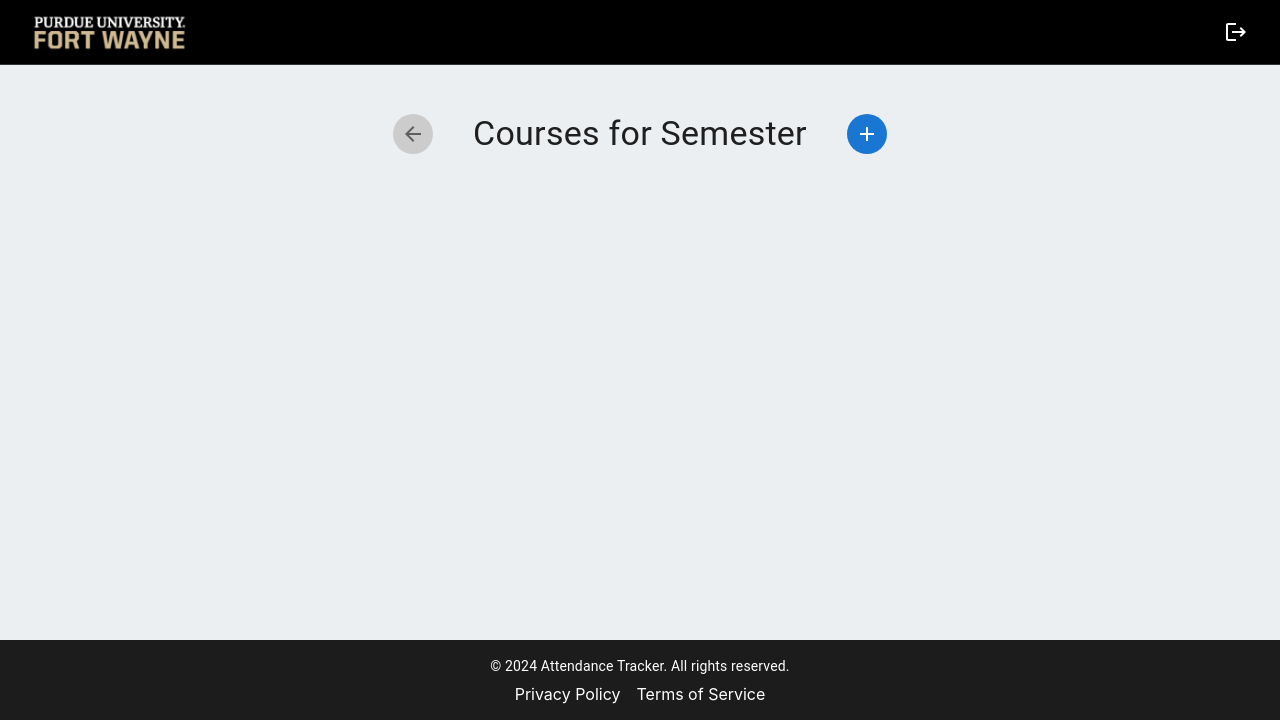
it: Course Management - Add Course › Clicking "Cancel" should close the pop-up without saving
This screenshot has width=1280, height=720.
Click the button with test id "add-course-button" at (867, 134), box [847,114,887,154]
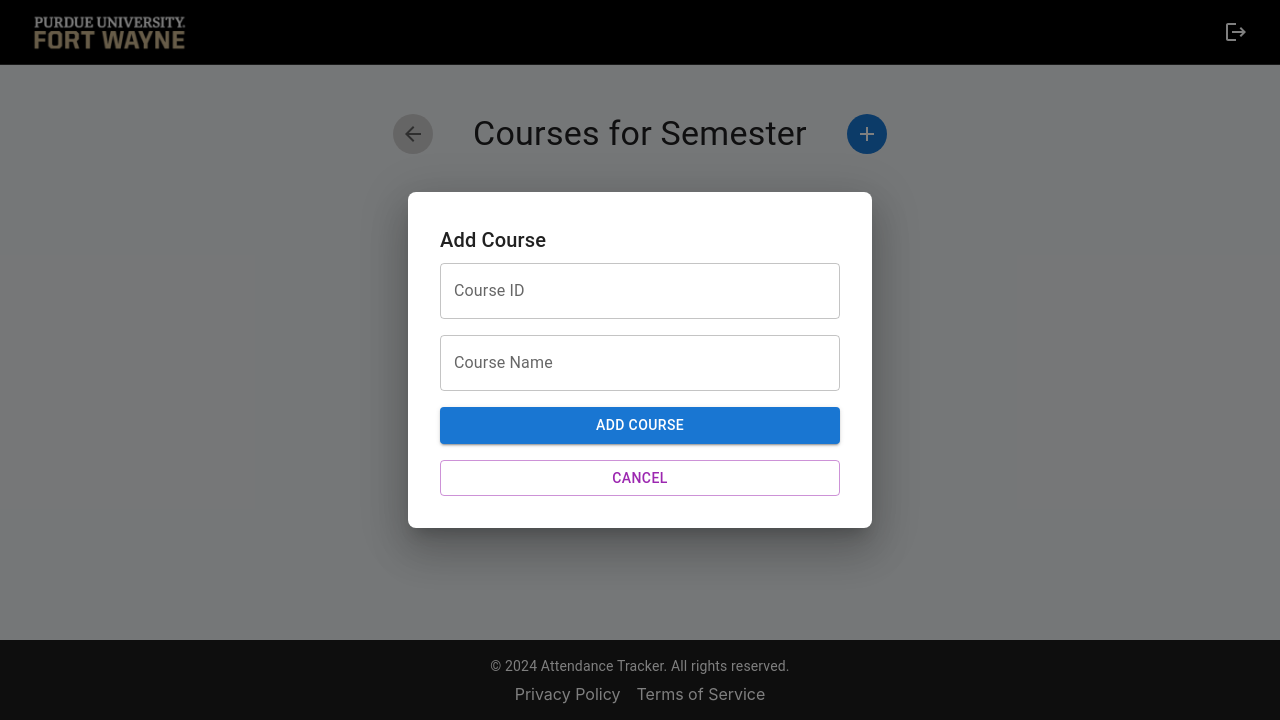
Type "CS103" into the element with test id "course-id-input" at (640, 291), box [440,263,840,319]
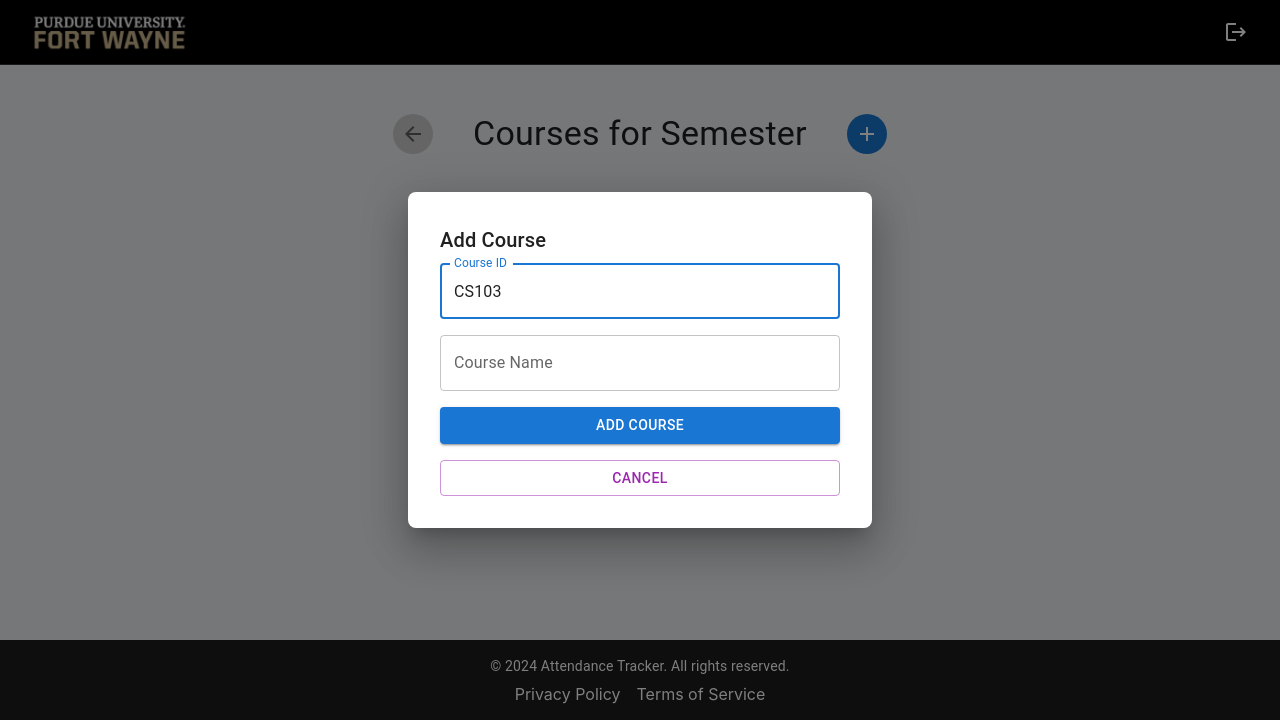
Type "Algorithms" into the element with test id "course-name-input" at (640, 363), box [440,335,840,391]
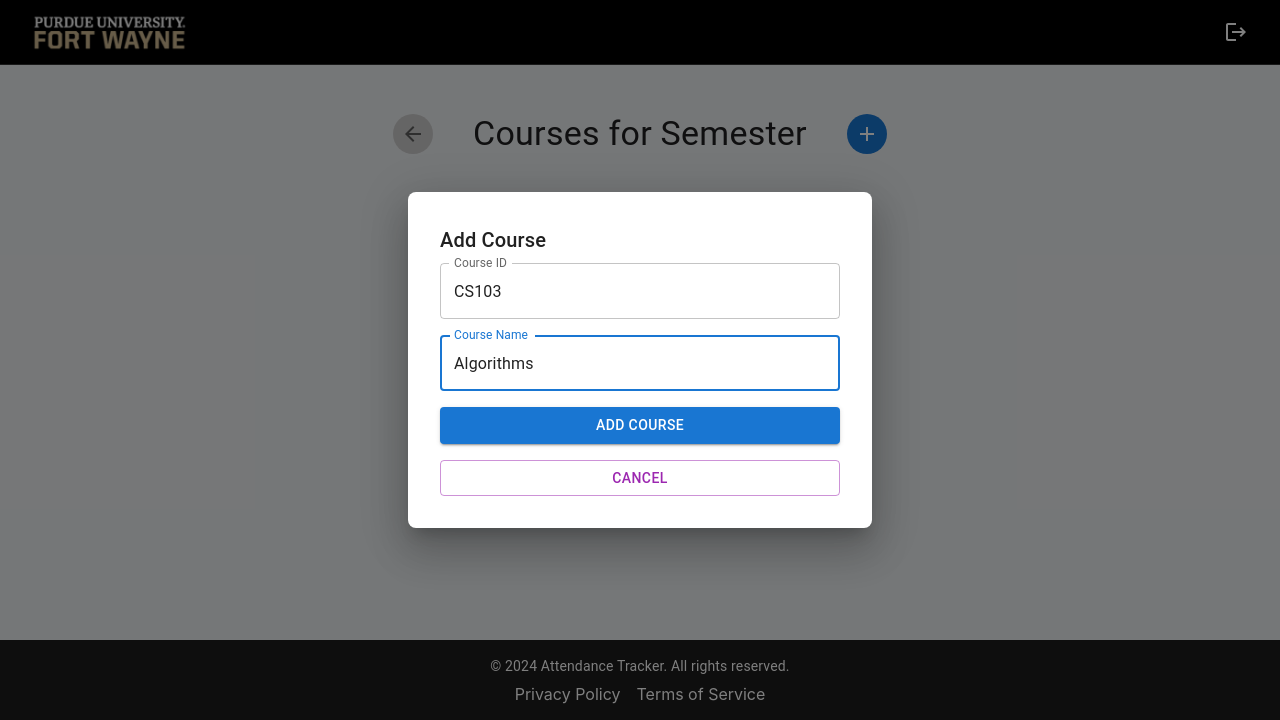
expect the button with test id "cancel-button" is shown: met
Click the button with test id "cancel-button" at (640, 479), box [440,460,840,497]
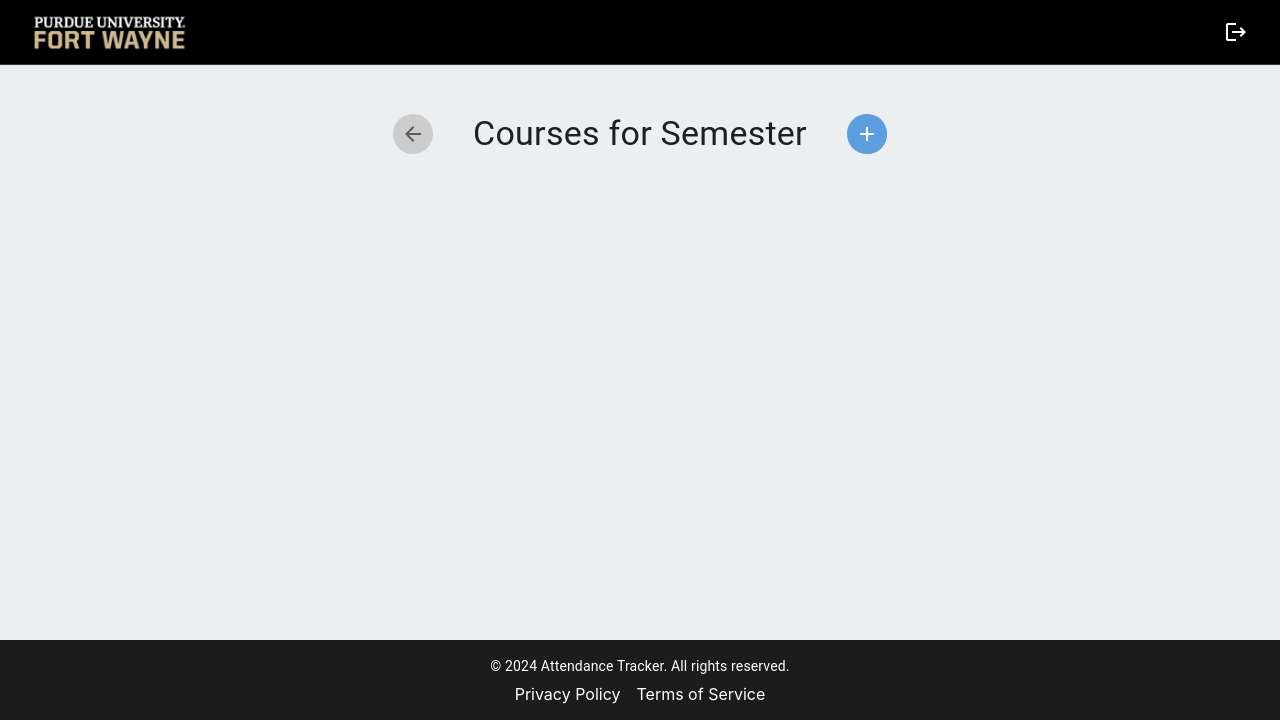
expect the element with test id "course-form" is gone: met
